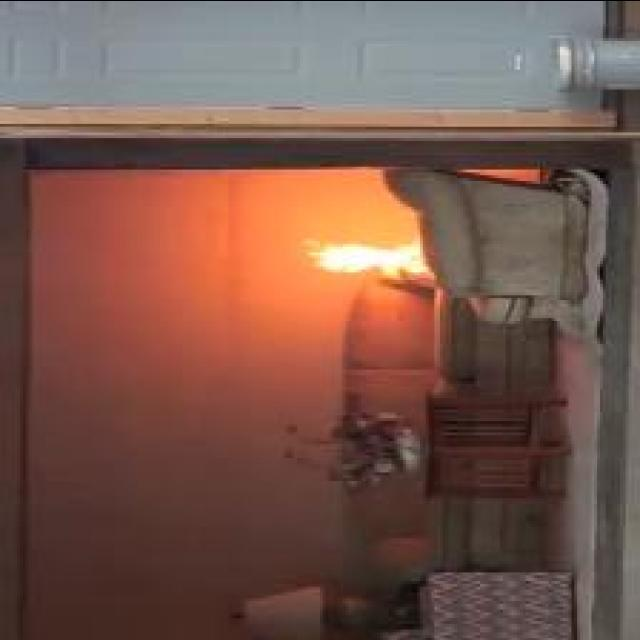Fire: (302, 237, 428, 277)
